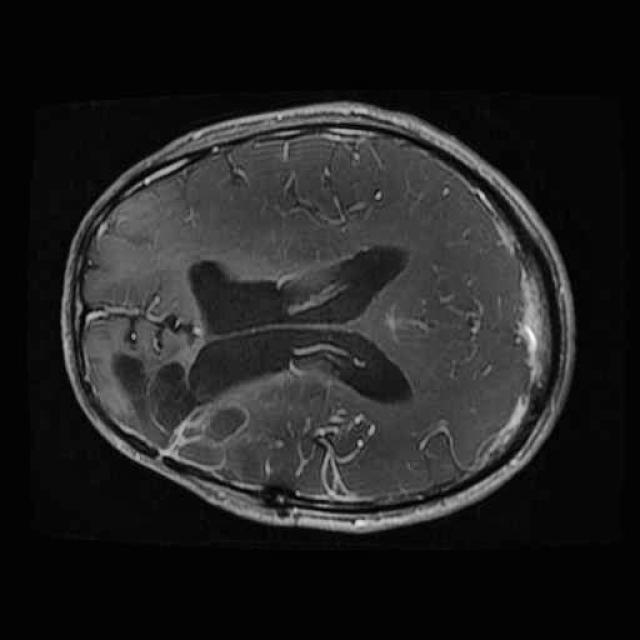Non-Tumor: (91, 341, 264, 495)
